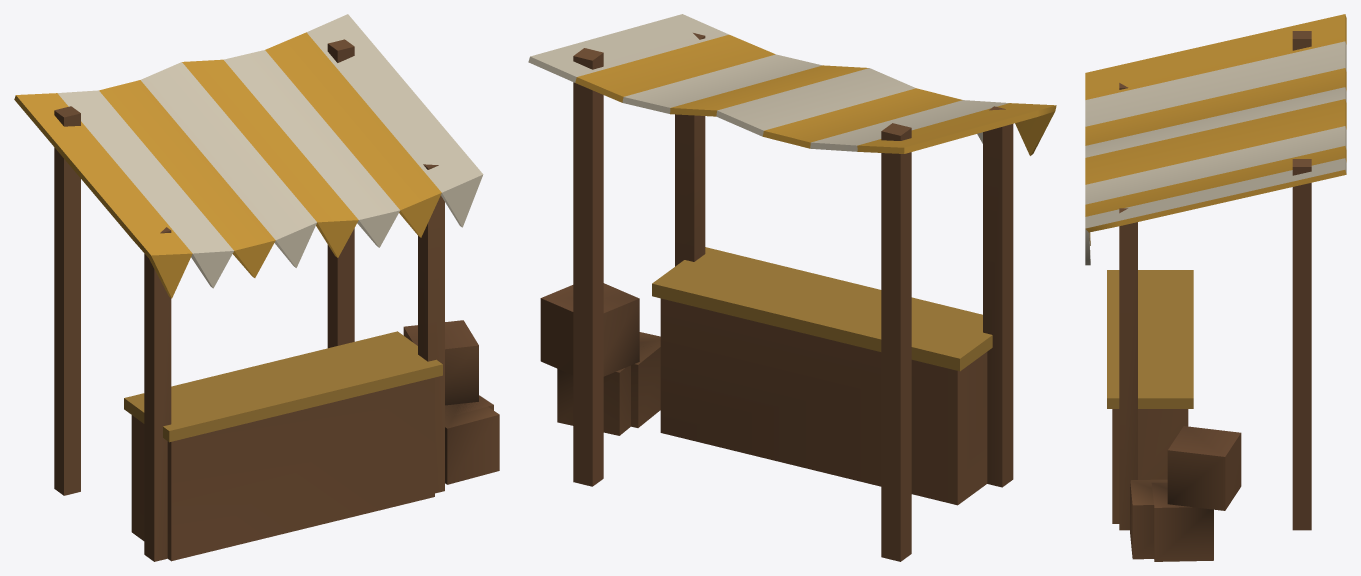
Rendered from StallSaffron.glb.
3 renders of one model, left to right at view 1: azimuth 30°, elevation 25°; view 2: azimuth 150°, elevation 25°; view 3: azimuth 270°, elevation 25°, orthographic. The views are drawn at different scales.
Parts seen in each view (by area): view 1: Canopy.002, Frame.003; view 2: Frame.003, Canopy.002; view 3: Canopy.002, Frame.003.
Boxes of the visible parts, <box> form: Canopy.002: <box>14,14,483,442</box>; Frame.003: <box>54,39,499,561</box>; Frame.003: <box>540,33,1013,561</box>; Canopy.002: <box>528,14,1056,371</box>; Canopy.002: <box>1085,14,1346,408</box>; Frame.003: <box>1112,31,1311,561</box>.
Bounding box in the file's own units: 7.9 × 7.55 × 4.82.
